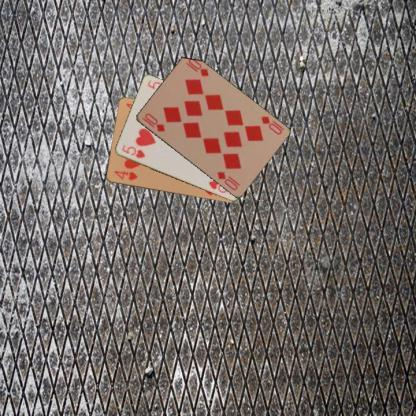10d: (258, 112, 285, 136), (139, 110, 166, 132)
4h: (112, 168, 138, 182)
5h: (119, 142, 146, 160)
